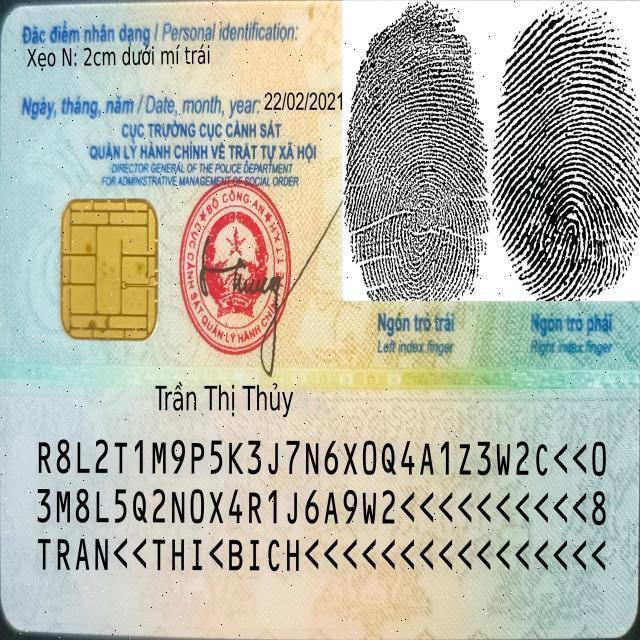features: (25, 42, 216, 72)
finger_print: (341, 0, 494, 368), (492, 2, 640, 371)
issue_date: (261, 86, 344, 115)
